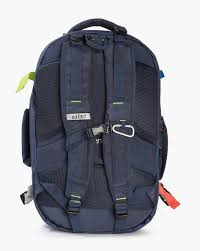backpack: (17, 17, 180, 234)
